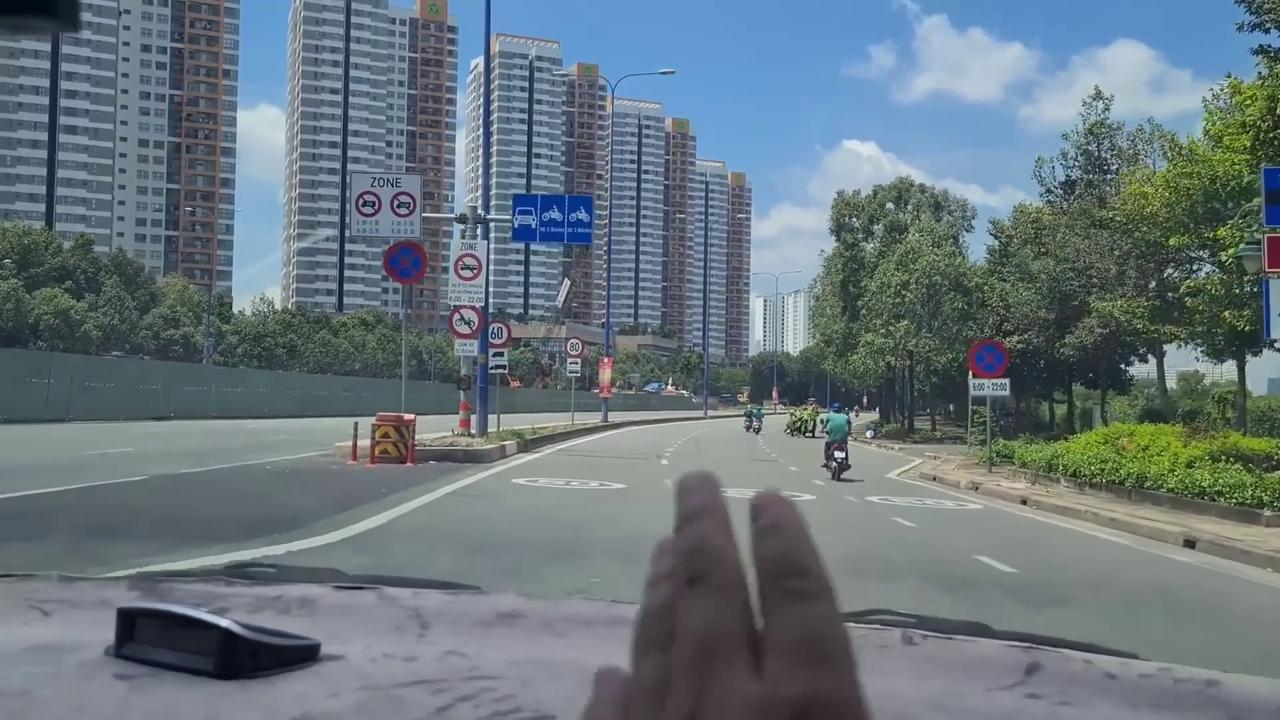Biển phụ: (968, 378, 1012, 397), (486, 347, 510, 374), (454, 339, 478, 357), (566, 358, 582, 376)
Cấm cac phương tiện hoạt động trong khung giờ cố định: (349, 171, 424, 240), (448, 238, 487, 308)
Cấm dừng - Cấm đỗ: (381, 237, 428, 285), (967, 339, 1013, 378)
Cấm xe máy: (448, 304, 483, 339)
GIơi hạn tốc độ 60Km/h: (485, 319, 514, 347)
Giới hạn tốc độ 80Km/h: (565, 336, 586, 357)
Làn đường cho từng xe: (511, 193, 593, 245)
